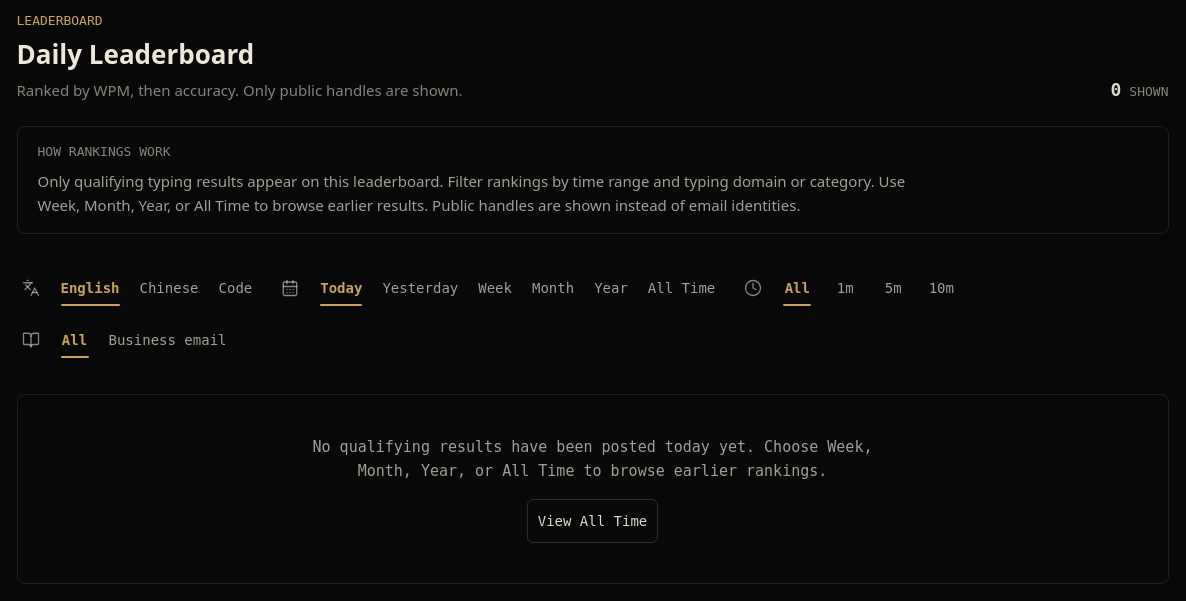
Scenario: LeaderboardPage › uses the empty Today action to select the existing All Time filter
This screenshot has width=1186, height=601.
Click the button "View All Time" at coordinates (592, 521), box [527,499,658,543]
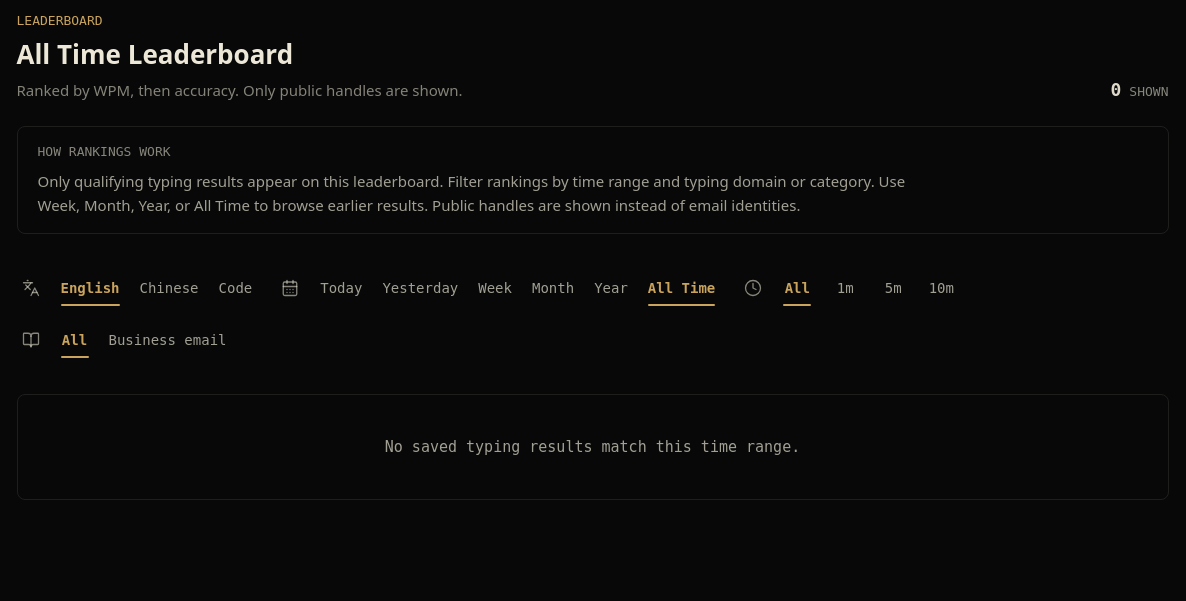
Check: the heading "All Time Leaderboard" is shown, box [16,36,293,72]
